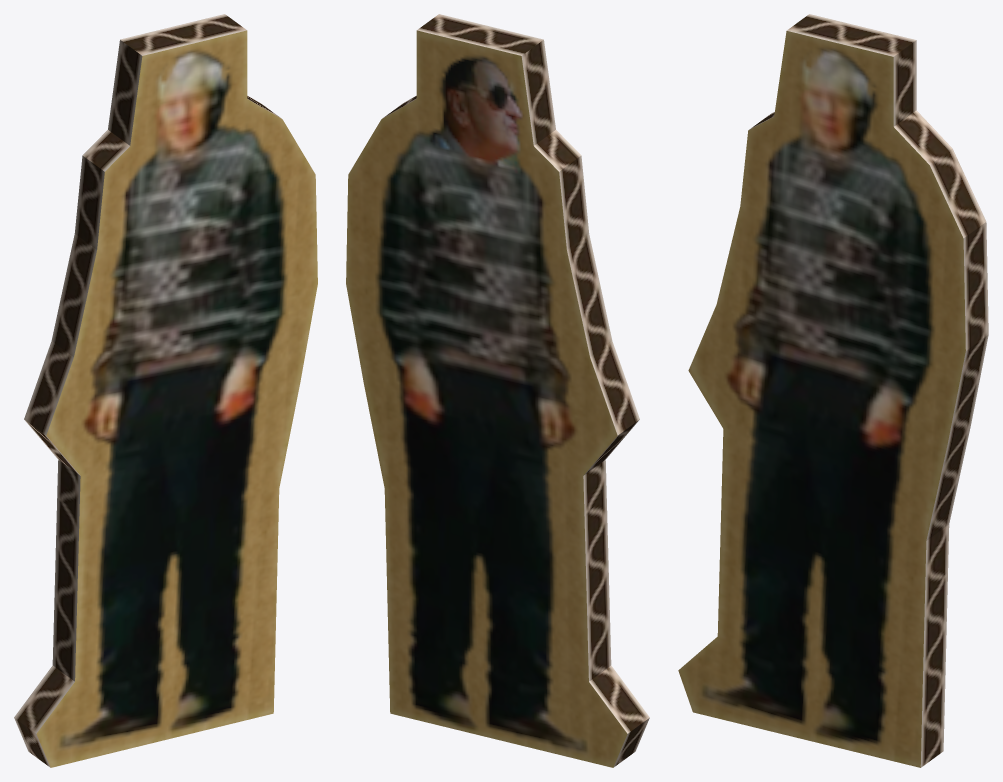
Rendered from proton_man.fbx.
The picture shows the model from 3 angles, left to right: view 1: azimuth 30°, elevation 25°; view 2: azimuth 150°, elevation 25°; view 3: azimuth 330°, elevation 25°; orthographic projection. The views are drawn at different scales.
Visible parts, largest first — view 1: Plane; view 2: Plane; view 3: Plane.
Boxes of the visible parts, x1,y1,x2,y2 form: Plane: (14,14,317,767); Plane: (346,14,649,767); Plane: (678,14,988,767).
Size of the model in its own units: 0.7263 by 1.7 by 0.1.
1 material, 1 textured.
